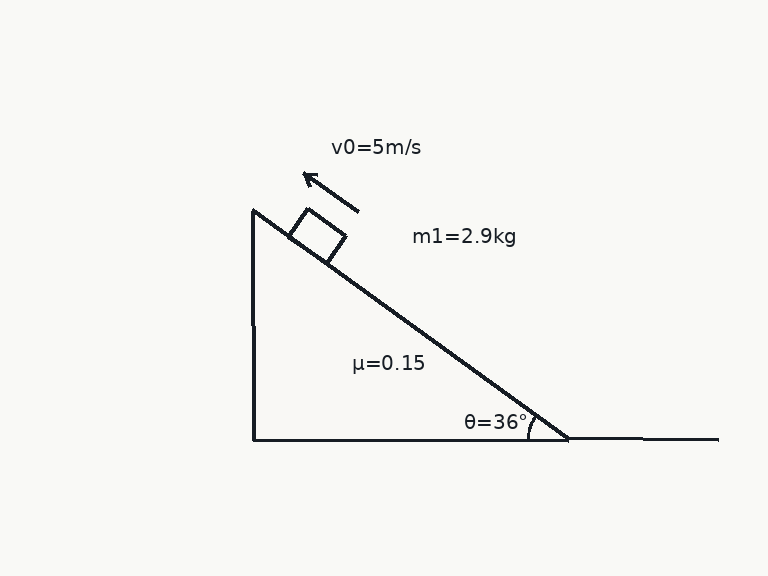block: (286, 206, 348, 265)
ramp: (251, 208, 570, 441)
